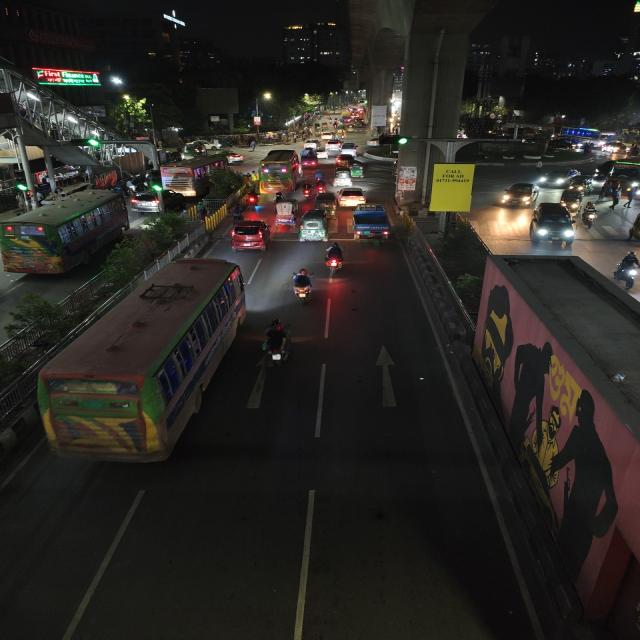bus: (32, 256, 246, 474), (0, 189, 129, 279), (163, 154, 229, 198), (257, 148, 303, 192), (555, 126, 614, 150)
car: (530, 202, 578, 244), (228, 217, 272, 254), (126, 188, 185, 214), (497, 180, 540, 210), (539, 166, 580, 188), (335, 186, 366, 206), (338, 142, 361, 158), (225, 151, 245, 163), (304, 138, 323, 150), (324, 140, 343, 152), (367, 137, 383, 148)
cng: (297, 208, 330, 244), (560, 187, 584, 211), (331, 167, 354, 188), (314, 192, 337, 212), (568, 175, 592, 192), (348, 162, 366, 180)
motorcycle: (260, 316, 294, 374), (612, 249, 640, 292), (289, 267, 315, 308), (321, 240, 347, 278), (580, 202, 600, 230), (242, 189, 262, 210), (300, 180, 314, 201), (314, 171, 327, 192)
pedestrian: (610, 187, 622, 210)
pickup_van: (351, 201, 393, 247), (300, 148, 320, 169)
rickshaw: (272, 194, 298, 230)
